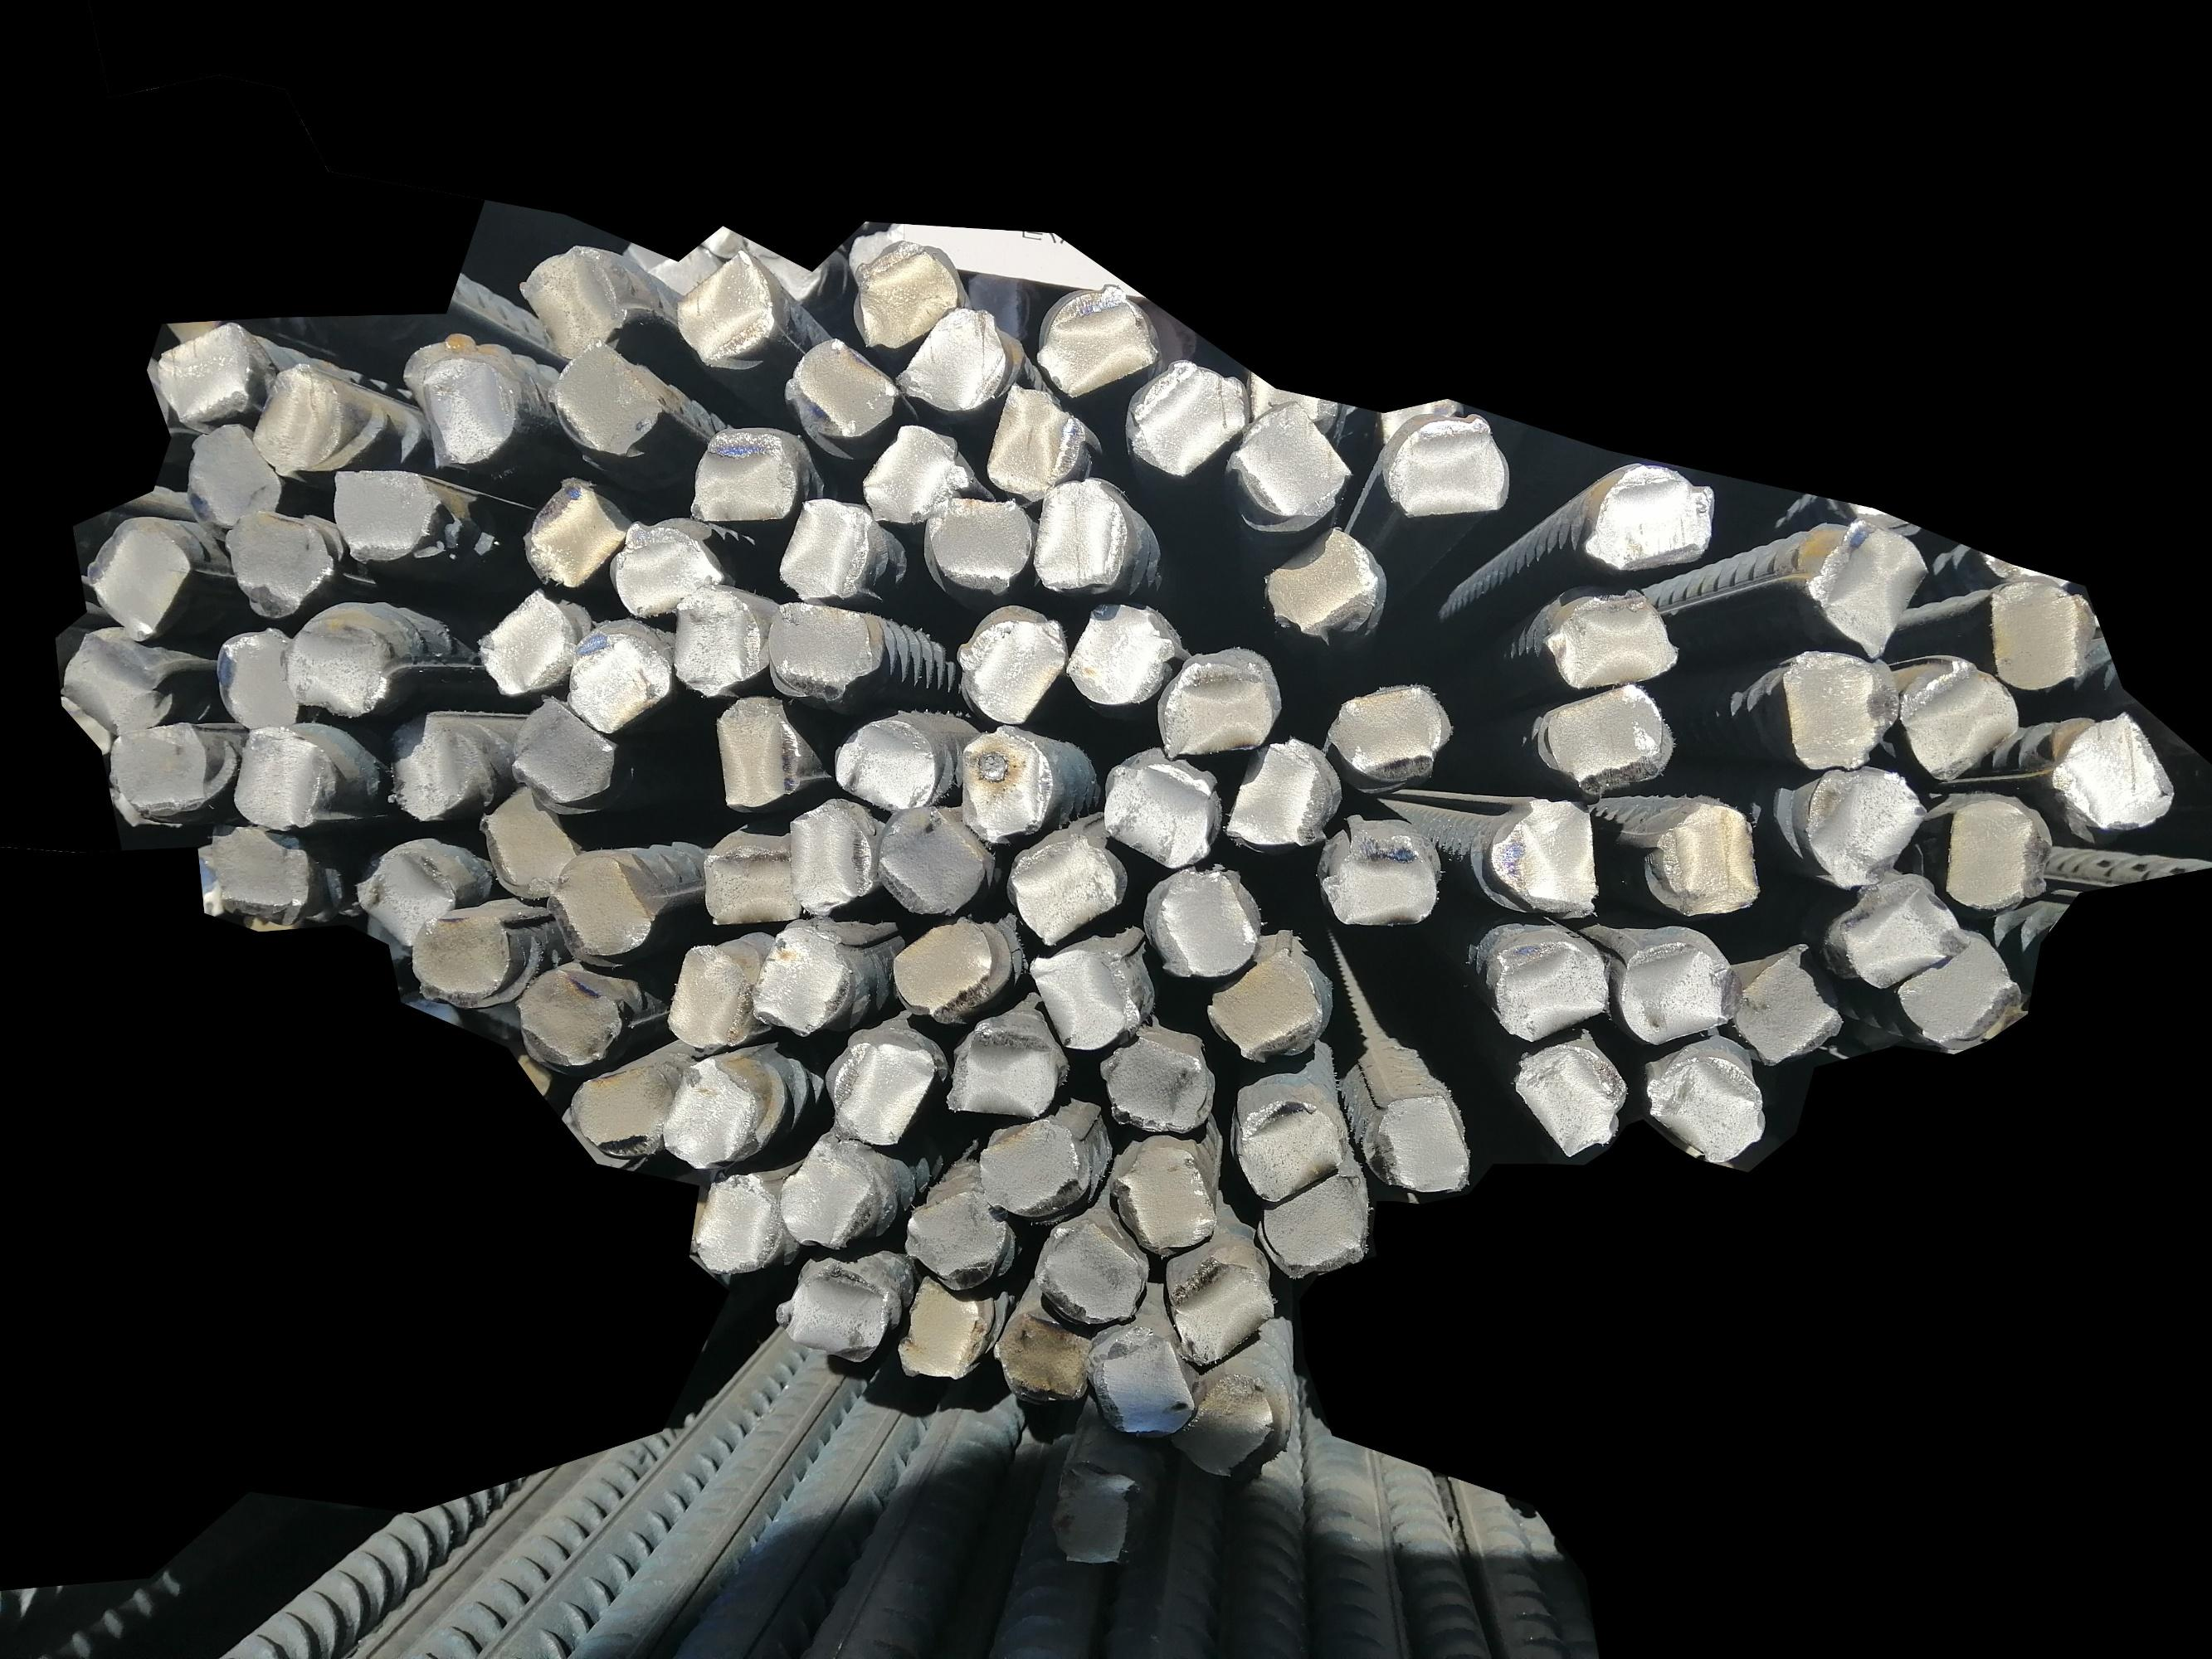bar: (1806, 514, 1930, 666), (1480, 796, 1607, 925), (2046, 711, 2177, 836), (1574, 460, 1717, 573), (1895, 920, 2020, 1047), (1778, 640, 1898, 772), (1536, 680, 1675, 793), (1895, 653, 2022, 777), (1832, 870, 1964, 988), (1541, 582, 1684, 692), (1028, 279, 1157, 399), (1124, 352, 1248, 474), (80, 509, 190, 645), (947, 606, 1069, 728), (1508, 1030, 1628, 1154), (1224, 406, 1347, 525), (1642, 795, 1761, 918), (1614, 934, 1743, 1047), (1727, 943, 1842, 1066), (1006, 829, 1123, 950), (1645, 1047, 1768, 1162), (518, 235, 631, 359), (1379, 410, 1504, 521), (1323, 676, 1452, 784), (1937, 791, 2053, 910), (1804, 763, 1923, 880), (1154, 647, 1279, 756), (1485, 934, 1611, 1044), (1164, 1368, 1279, 1486), (1316, 819, 1438, 931), (1982, 572, 2093, 692), (551, 338, 661, 460), (671, 247, 779, 371), (892, 301, 1009, 415), (1224, 737, 1335, 856), (1262, 528, 1377, 641), (894, 1180, 1006, 1295), (1164, 1251, 1276, 1366), (1147, 870, 1259, 985), (1358, 1082, 1469, 1197), (849, 235, 964, 347), (884, 915, 1002, 1023), (662, 1047, 765, 1171), (1208, 950, 1321, 1061), (248, 361, 357, 476), (56, 624, 173, 732), (1259, 1168, 1370, 1279), (148, 314, 256, 429), (1037, 1208, 1143, 1324), (561, 619, 671, 730), (957, 721, 1055, 847), (824, 1037, 934, 1148), (695, 823, 809, 931), (1107, 1141, 1220, 1249), (1234, 1093, 1342, 1206), (1102, 760, 1215, 868), (511, 695, 617, 810), (779, 333, 896, 437), (415, 352, 516, 472), (221, 507, 333, 615), (1027, 945, 1138, 1053), (1100, 1030, 1213, 1136), (1091, 1324, 1196, 1439), (987, 378, 1089, 495), (750, 918, 849, 1039), (610, 511, 720, 619), (512, 964, 622, 1072), (767, 591, 873, 702), (950, 1021, 1065, 1124), (1065, 601, 1175, 708), (927, 490, 1037, 596), (181, 422, 284, 535), (479, 781, 577, 899), (286, 612, 390, 721), (567, 1051, 676, 1155), (228, 718, 331, 829), (687, 418, 798, 521), (776, 1262, 887, 1364), (549, 850, 650, 964), (873, 803, 974, 917), (328, 464, 443, 563), (777, 1134, 872, 1255), (1051, 1452, 1140, 1579), (830, 708, 938, 812), (521, 479, 622, 591), (99, 718, 211, 819), (1030, 476, 1128, 591), (858, 422, 966, 525), (784, 798, 872, 922), (664, 938, 755, 1054), (974, 1117, 1081, 1216), (410, 906, 518, 1004), (777, 495, 873, 605), (207, 821, 310, 922), (356, 843, 457, 946), (671, 580, 760, 697), (479, 589, 573, 699), (711, 690, 798, 809), (894, 1269, 985, 1382), (211, 624, 303, 734), (385, 711, 476, 821), (994, 1307, 1089, 1403), (694, 1171, 777, 1276)
